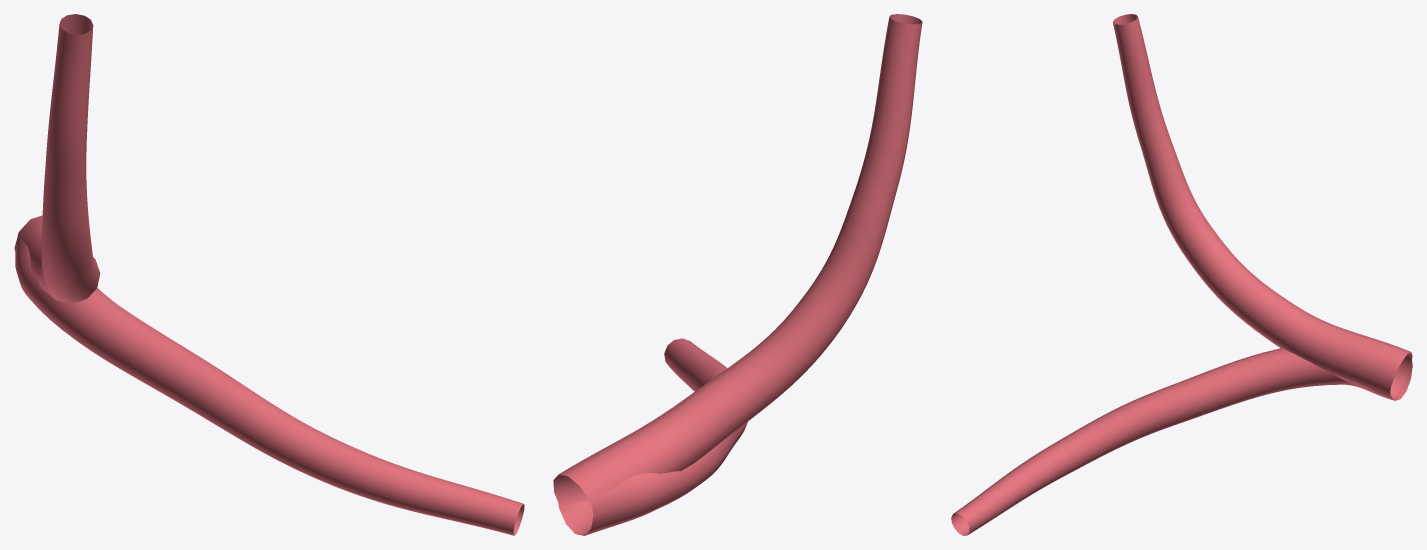
3 views of the same model, side by side, from view 1: azimuth 30°, elevation 25°; view 2: azimuth 150°, elevation 25°; view 3: azimuth 270°, elevation 25° (orthographic). The views are drawn at different scales.
Visible parts, largest first — view 1: ZA_20fc0d1a89db5eb7; view 2: ZA_20fc0d1a89db5eb7; view 3: ZA_20fc0d1a89db5eb7.
Part boxes in pixels (left/top/right/bottom): ZA_20fc0d1a89db5eb7: left=14, top=14, right=524, bottom=535; ZA_20fc0d1a89db5eb7: left=553, top=14, right=922, bottom=535; ZA_20fc0d1a89db5eb7: left=951, top=14, right=1412, bottom=535.
Bounding box in the file's own units: 0.0245 × 0.0336 × 0.0356.
